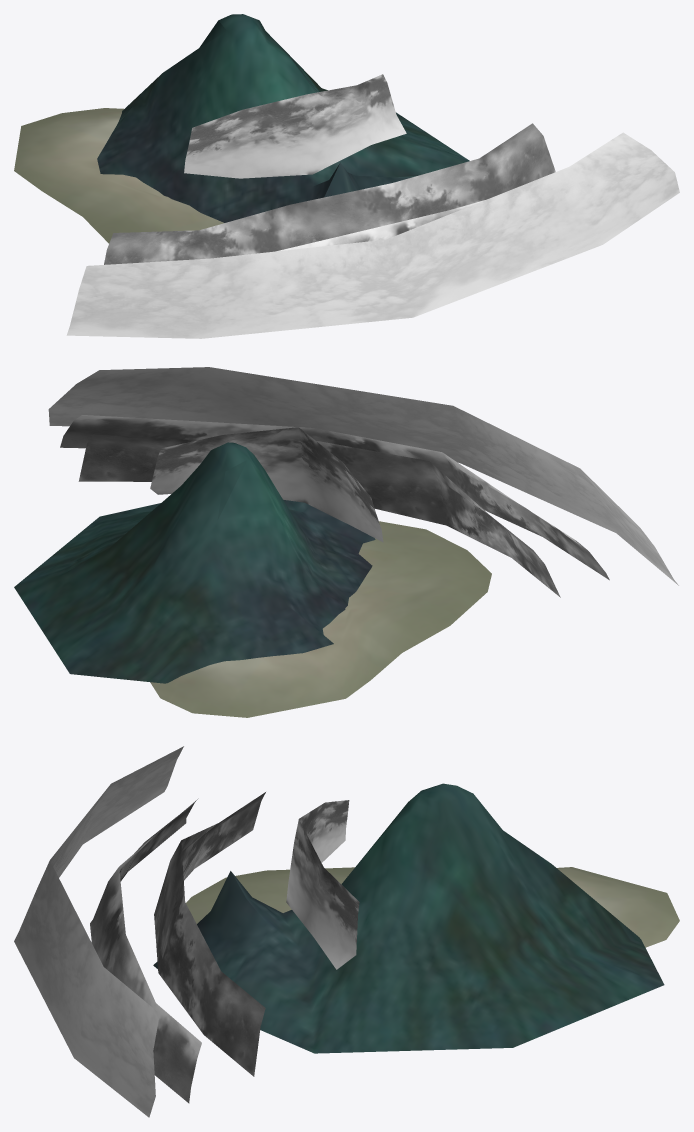
The model's file is pir_m_are_isl_mysterious_01_dock_lod.fbx.
The picture shows the model from 3 angles, top to bottom: view 1: azimuth 30°, elevation 25°; view 2: azimuth 150°, elevation 25°; view 3: azimuth 270°, elevation 25°; orthographic projection. The views are drawn at different scales.
Visible parts, largest first — view 1: base_fog, hill, base_fog4, base_fog2, ground1, base_fog3; view 2: hill, base_fog, ground1, base_fog4, base_fog2, base_fog3; view 3: hill, base_fog, base_fog4, base_fog2, base_fog3, ground1.
Boxes of the visible parts, x1,y1,x2,y2 form: base_fog: [66, 132, 679, 338]; hill: [97, 14, 469, 222]; base_fog4: [104, 123, 555, 264]; base_fog2: [184, 74, 406, 178]; ground1: [14, 108, 224, 243]; base_fog3: [277, 200, 484, 251]; hill: [14, 442, 375, 683]; base_fog: [48, 367, 678, 585]; ground1: [150, 521, 491, 717]; base_fog4: [78, 434, 560, 597]; base_fog2: [150, 427, 383, 542]; base_fog3: [60, 415, 609, 580]; hill: [153, 783, 664, 1053]; base_fog: [14, 746, 183, 1117]; base_fog4: [154, 792, 265, 1076]; base_fog2: [286, 800, 359, 969]; base_fog3: [90, 798, 201, 1103]; ground1: [186, 867, 679, 947].
Size of the model in its own units: 449939 by 115352 by 388719.
Materials: 3 (3 with a texture image).
